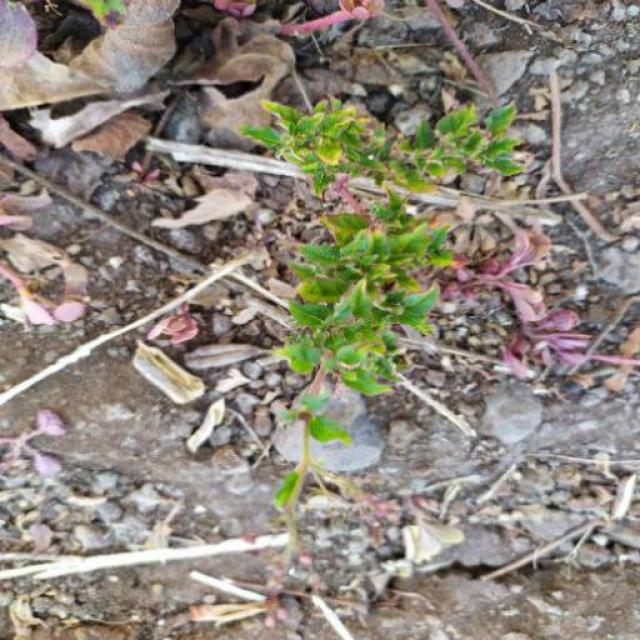weed: (232, 92, 532, 512)
